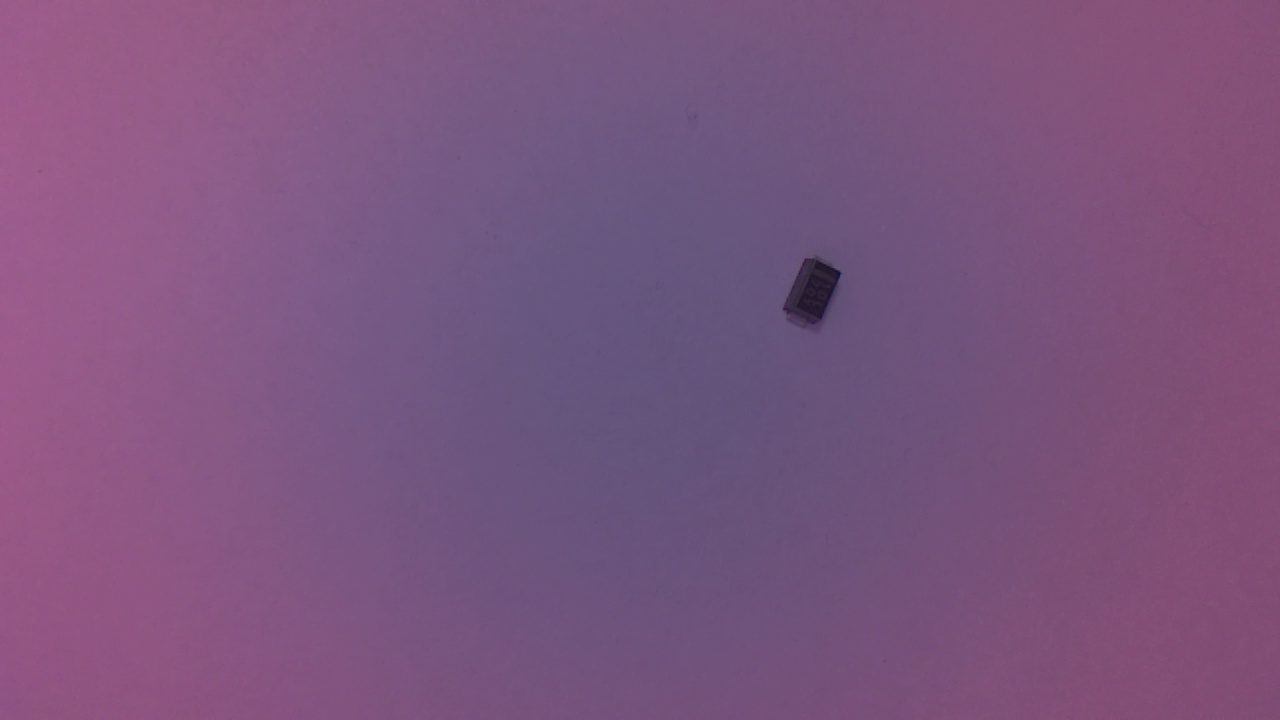Diode: (779, 260, 850, 340)
